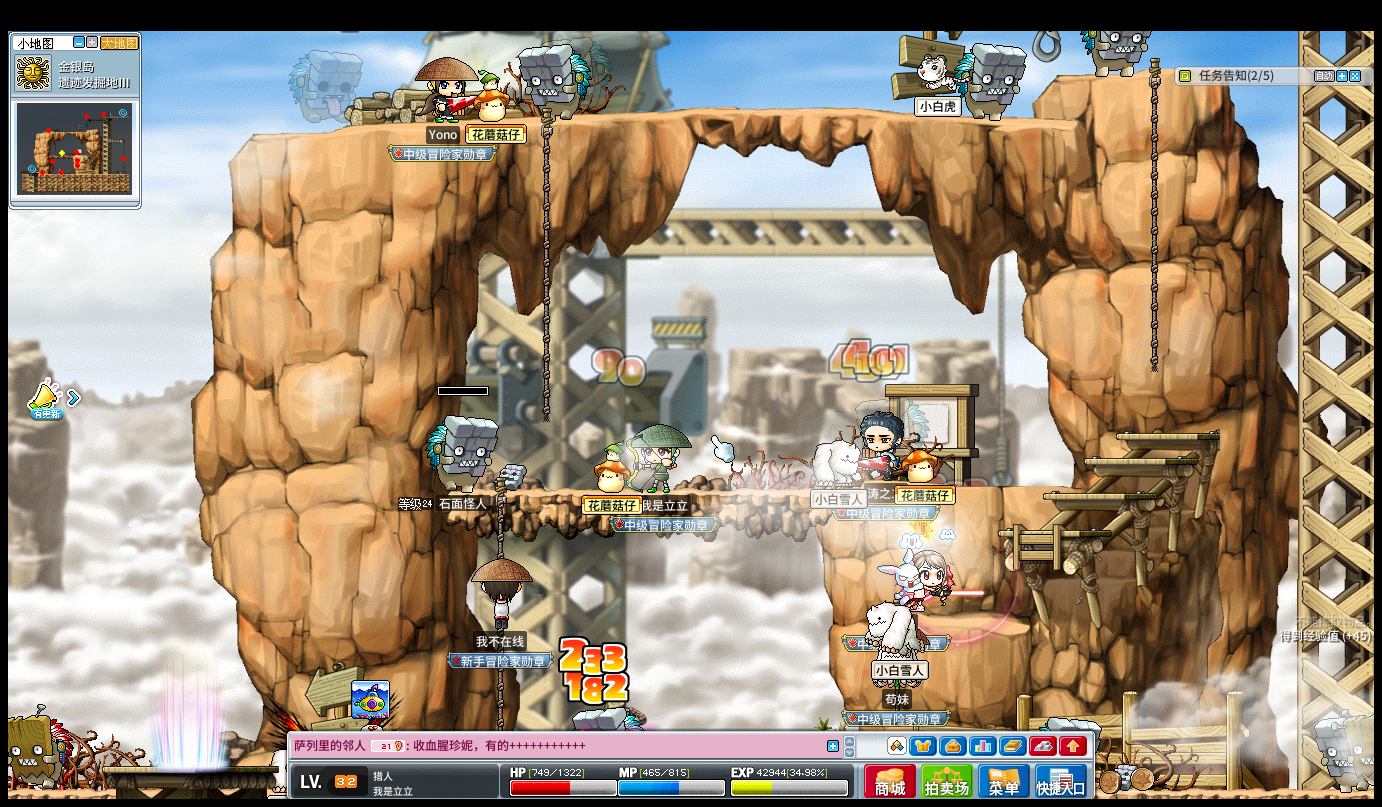floor: (261, 104, 1090, 139), (439, 487, 830, 499), (927, 613, 1029, 635), (878, 481, 1088, 490), (880, 482, 1076, 491), (1053, 70, 1166, 82), (1114, 429, 1221, 441), (1077, 455, 1194, 464), (1041, 492, 1154, 500), (997, 528, 1108, 536)
monster: (287, 49, 362, 130), (425, 414, 499, 491), (517, 42, 590, 120), (2, 708, 71, 790), (955, 41, 1027, 119), (1314, 709, 1376, 792), (1083, 28, 1149, 78)
rope: (1146, 55, 1160, 377), (539, 104, 551, 427), (491, 483, 505, 560), (493, 668, 503, 723)
